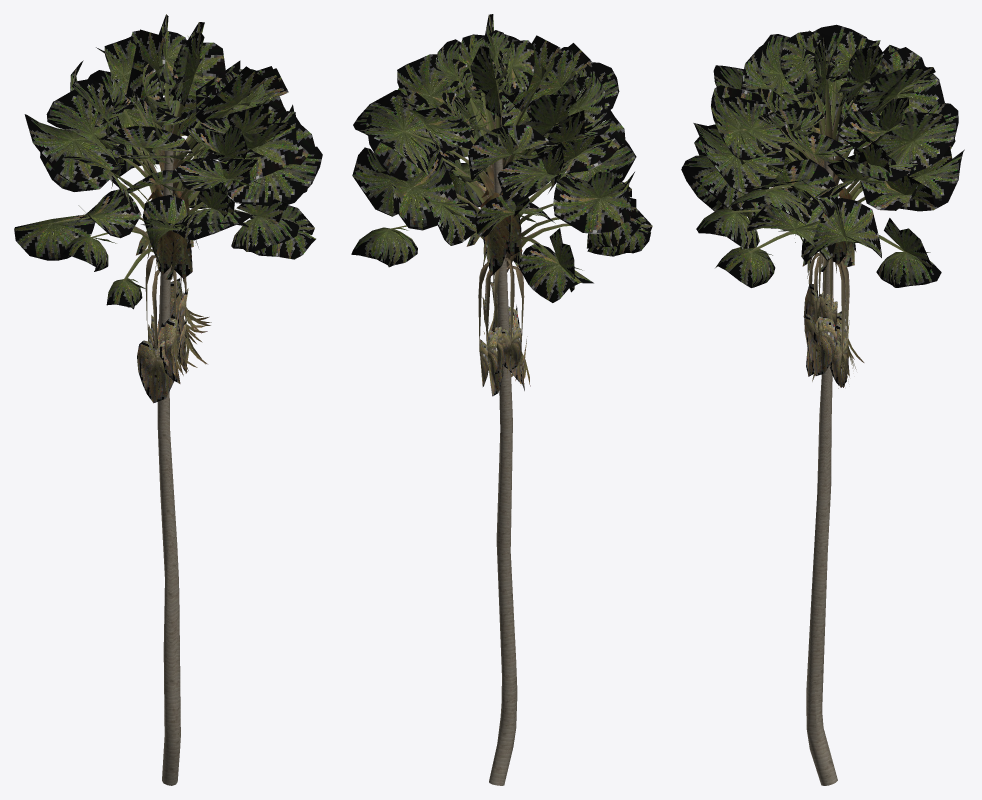
Rendered from jungle-mauritia-l-close.glb.
3 views of the same model, side by side, from view 1: azimuth 30°, elevation 25°; view 2: azimuth 150°, elevation 25°; view 3: azimuth 270°, elevation 25° (orthographic).
Parts seen in each view (by area): view 1: LOD1; view 2: LOD1; view 3: LOD1.
Boxes of the visible parts, left/top/right/bottom form: LOD1: left=14, top=14, right=322, bottom=785; LOD1: left=351, top=14, right=652, bottom=785; LOD1: left=681, top=24, right=964, bottom=785.
Size of the model in its own units: 12.75 by 35.86 by 12.24.
2 materials, 2 textured.
